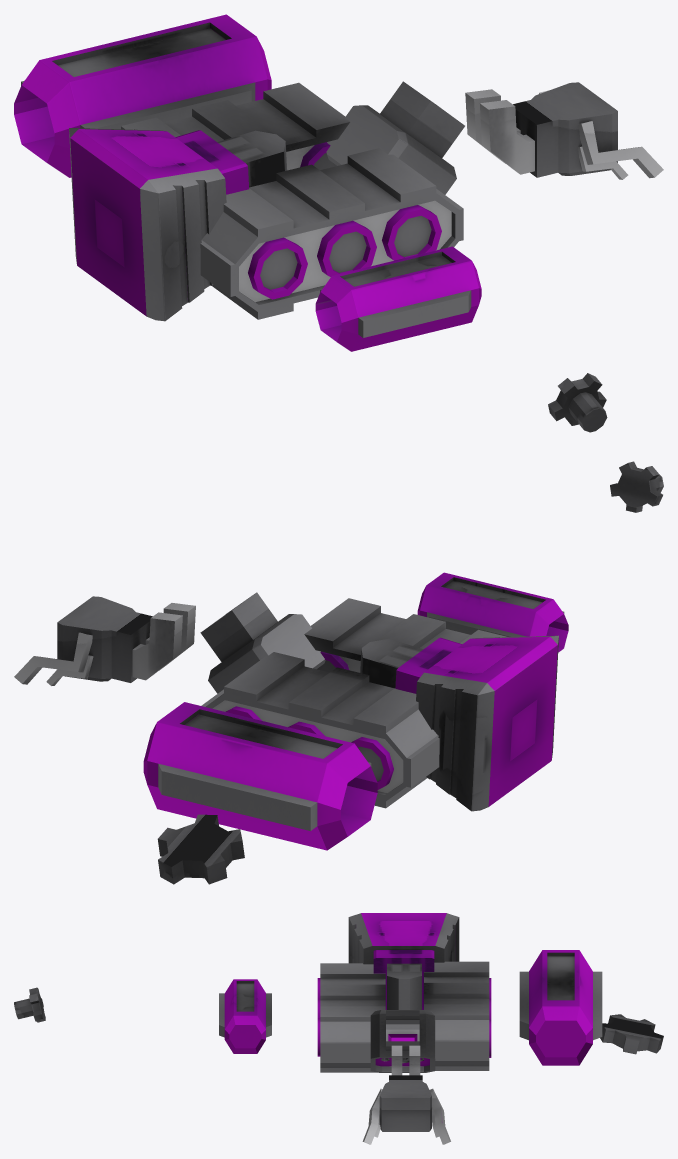
The model's file is Enemy2_Die34.obj.
The picture shows the model from 3 angles, top to bottom: view 1: azimuth 30°, elevation 25°; view 2: azimuth 150°, elevation 25°; view 3: azimuth 270°, elevation 25°; orthographic projection. The views are drawn at different scales.
Visible parts, largest first — view 1: Object006, Object013, Object011, Object014, Object010, Object012, Object008; view 2: Object011, Object013, Object006, Object010, Object014, Object012, Object009, Object008; view 3: Object006, Object011, Object013, Object010, Object012, Object014, Object009, Object008.
Boxes of the visible parts, x1,y1,x2,y2 form: Object006: (121, 82, 463, 319); Object013: (69, 128, 287, 321); Object011: (14, 14, 271, 177); Object014: (315, 246, 481, 351); Object010: (465, 82, 663, 179); Object012: (326, 81, 464, 194); Object008: (548, 373, 607, 432); Object011: (143, 702, 377, 850); Object013: (360, 635, 558, 811); Object006: (201, 598, 508, 808); Object010: (14, 596, 195, 685); Object014: (417, 572, 568, 652); Object012: (200, 592, 325, 693); Object009: (157, 814, 244, 884); Object008: (610, 461, 663, 512); Object006: (317, 961, 491, 1072); Object011: (519, 950, 602, 1065); Object013: (348, 913, 459, 1009); Object010: (362, 1045, 450, 1144); Object012: (370, 1010, 435, 1072); Object014: (219, 979, 271, 1053); Object009: (600, 1014, 663, 1054); Object008: (14, 987, 45, 1022).
Bounding box in the file's own units: 196 × 50.7 × 341.
